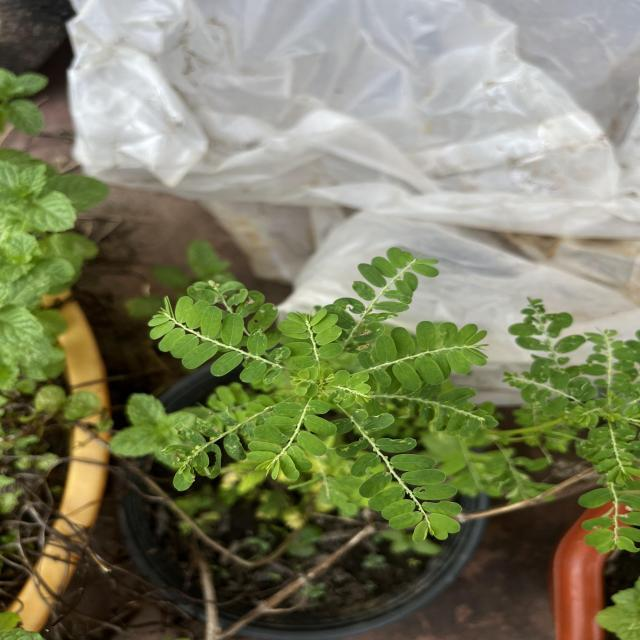Phyllanthus niruri: (333, 406, 466, 544), (144, 292, 290, 386), (331, 244, 438, 346), (359, 319, 492, 392), (244, 396, 340, 486), (277, 305, 344, 374)
